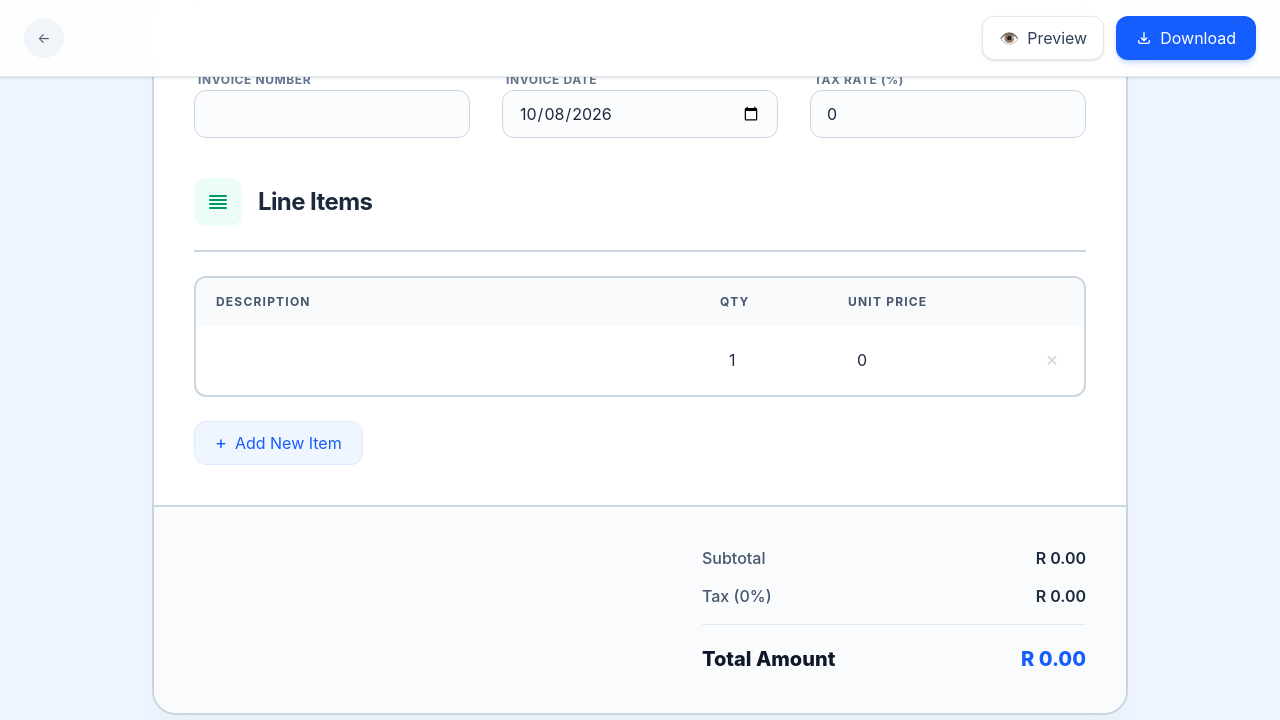
InvoiceBuilder interaction › totals calculations › changing tax rate recalculates the tax and the total equals subtotal plus tax
This screenshot has width=1280, height=720.
(page scrolled)
Replace the text in the 2nd number field with "2" at (764, 360), box [712,338,816,382]
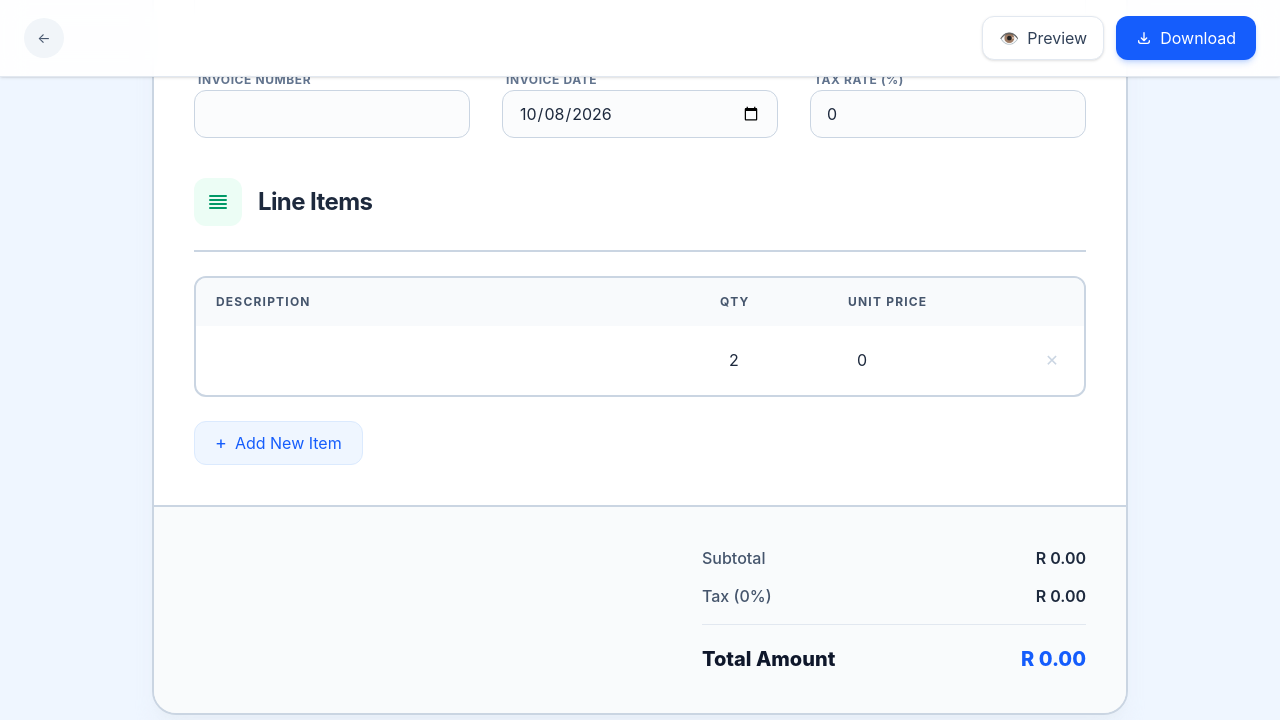
Replace the text in the 3rd number field with "100" at (924, 360), box [840,338,1008,382]
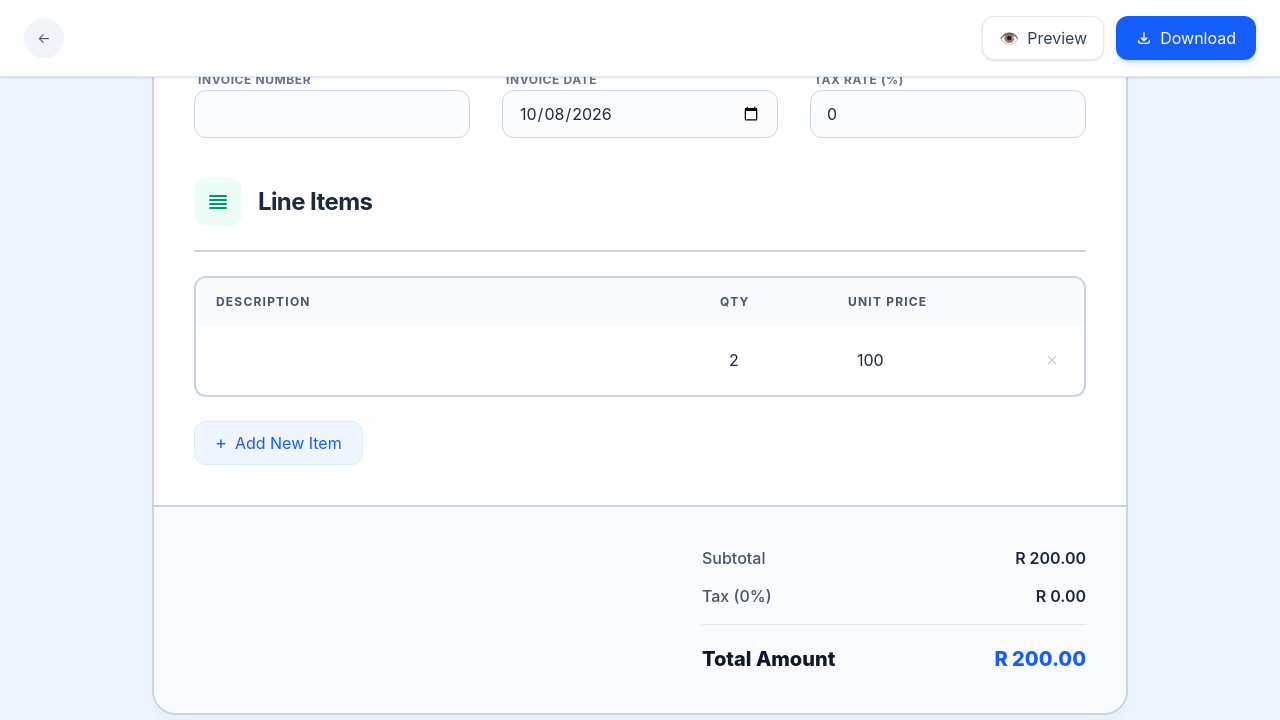
Replace the text in the number field below "Tax Rate (%)" with "15" at (948, 114), box [810,90,1086,138]
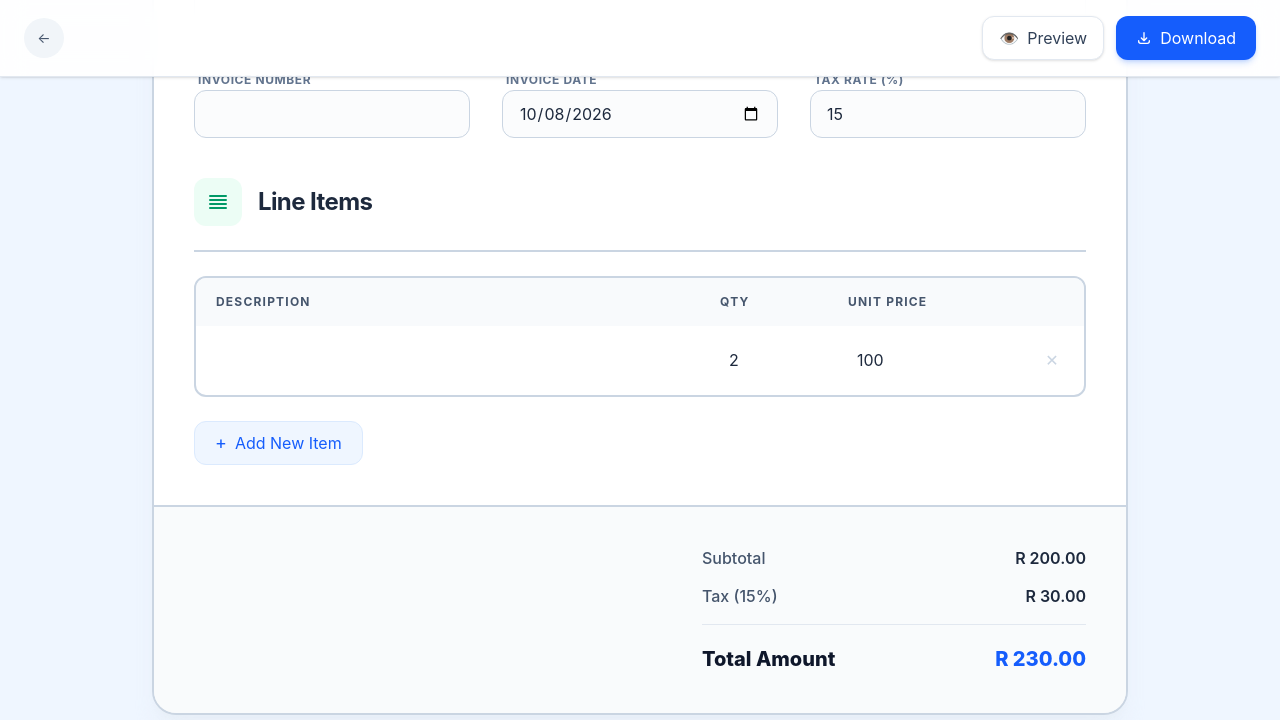
Result: the text "Tax (15%)" is shown at [702,585,778,608]
Result: the text "R 30.00" is shown at [1026,585,1086,608]
Result: the text "R 230.00" is shown at [995,645,1086,673]
